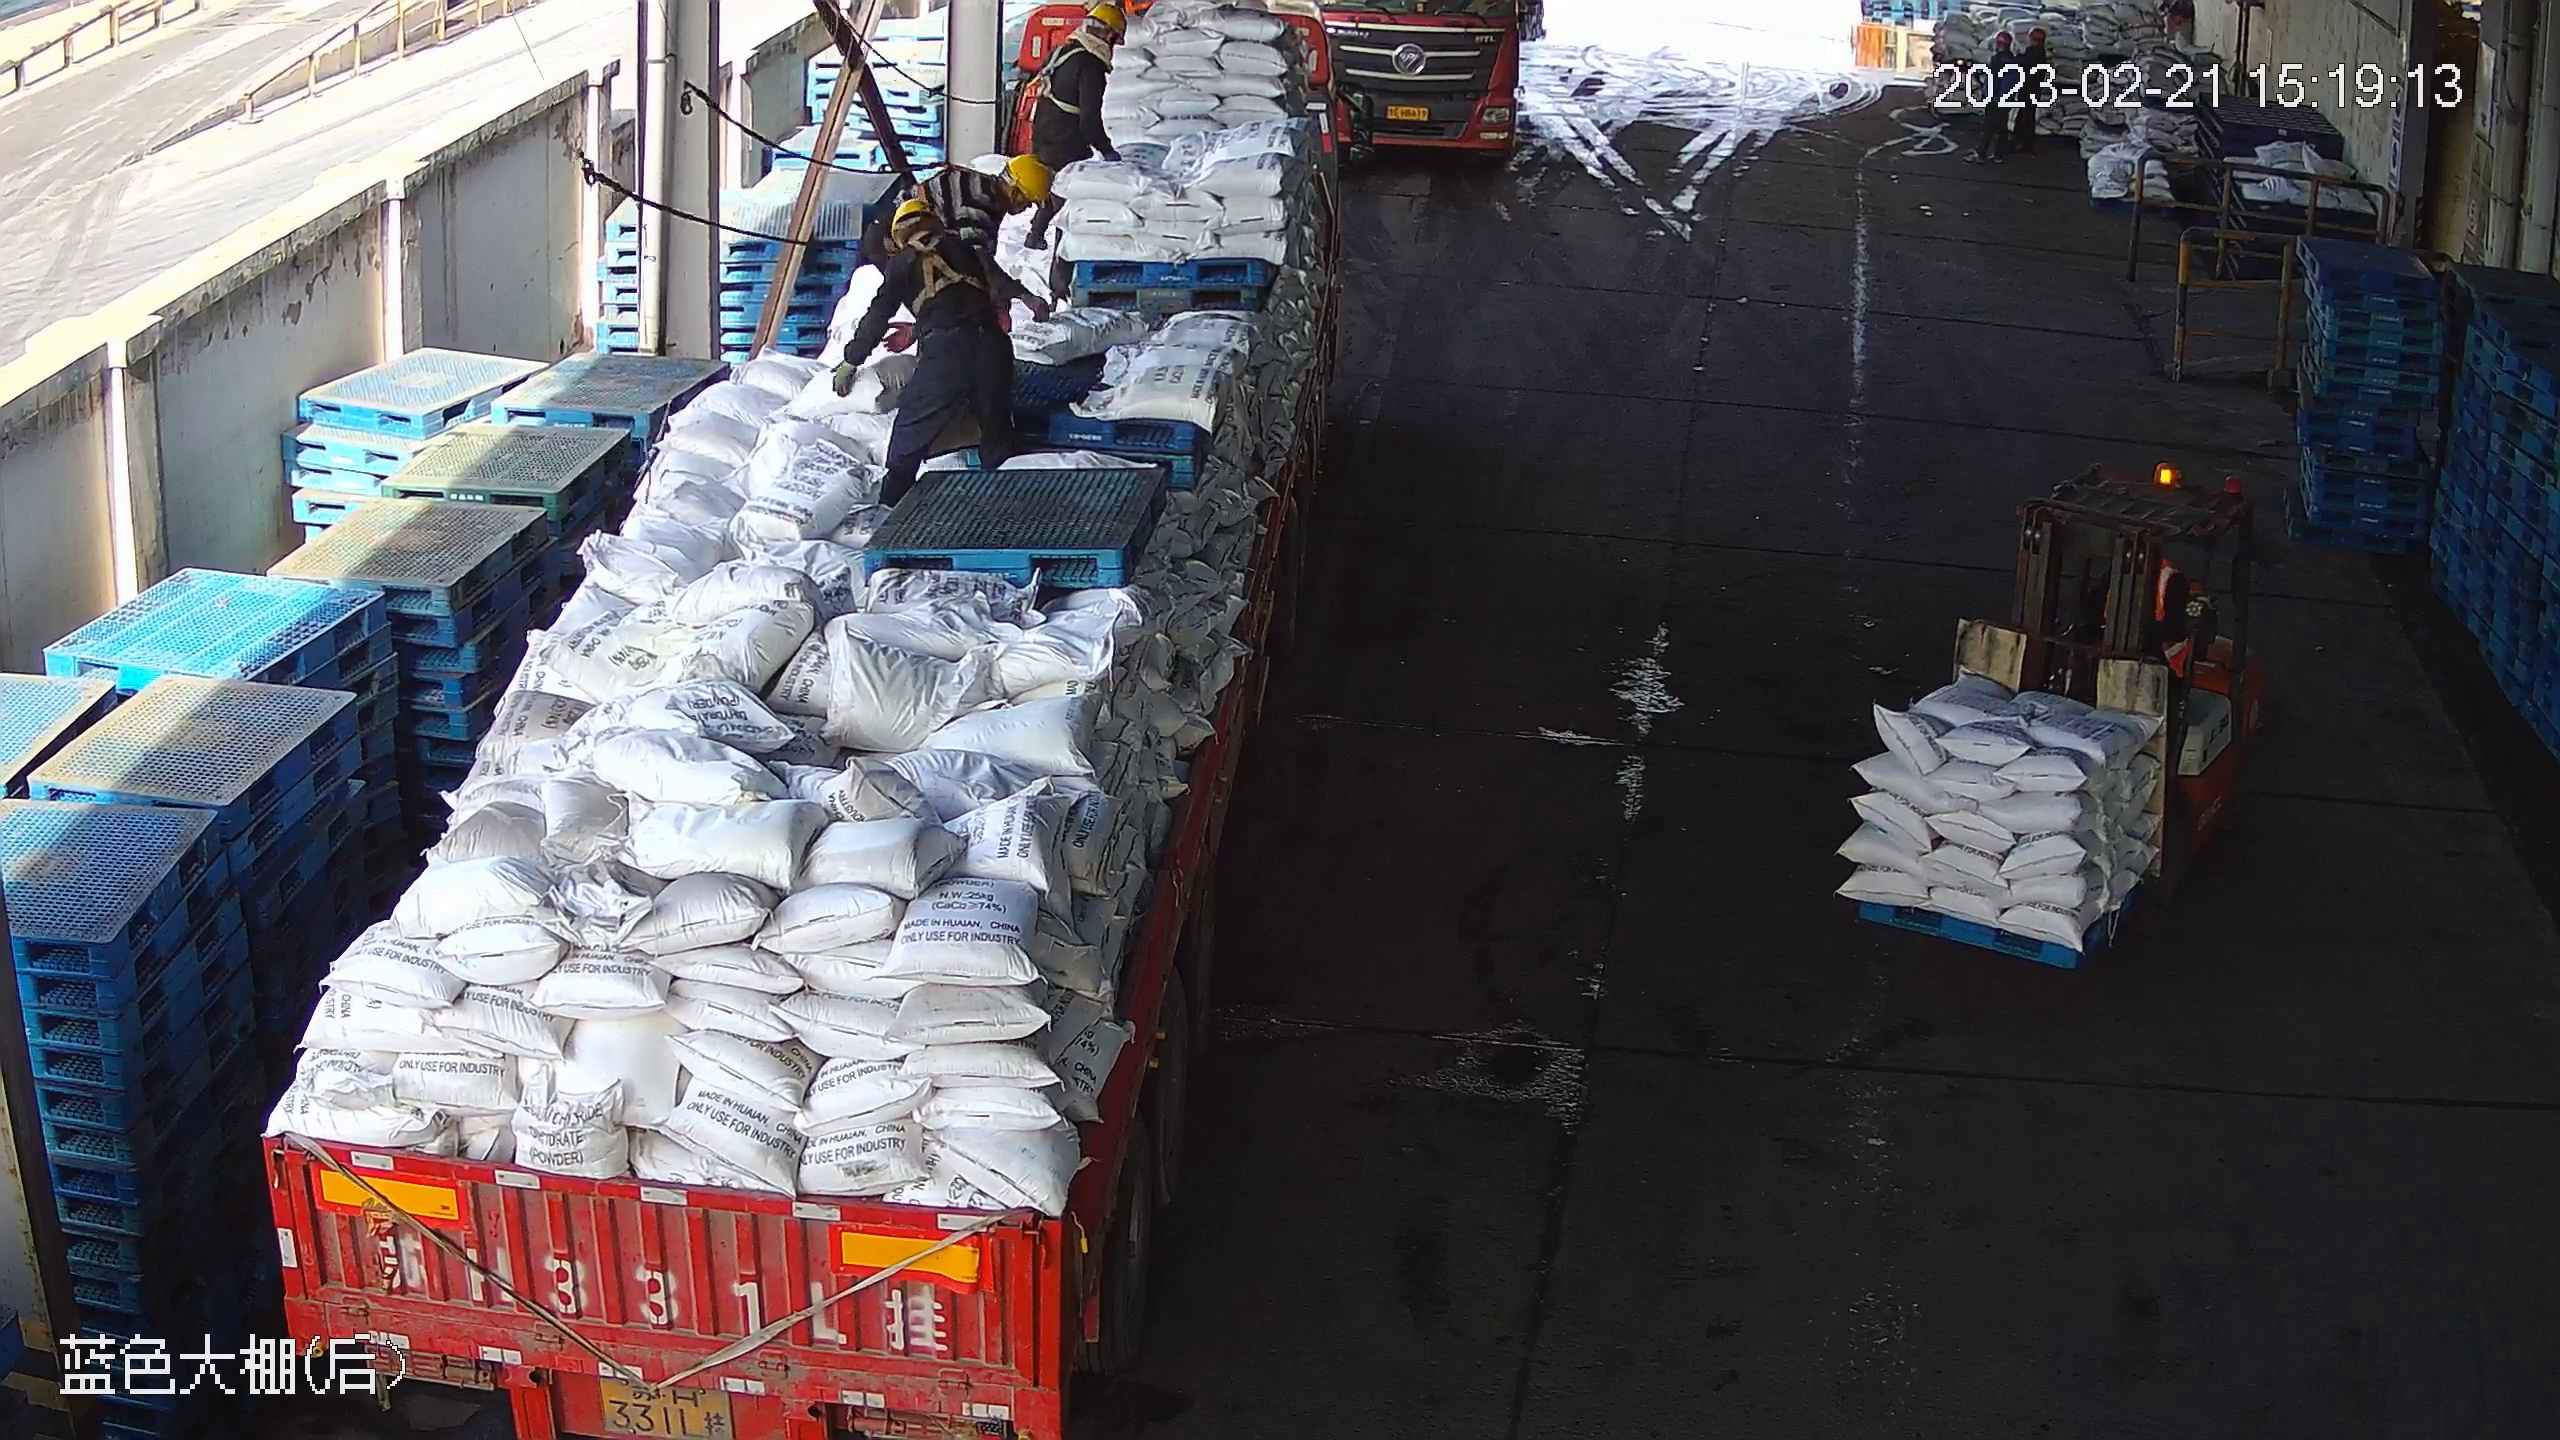belt: (883, 232, 966, 303), (1040, 34, 1085, 116), (922, 154, 966, 182)
head: (842, 188, 1003, 303), (1040, 1, 1125, 72)
helmet: (1011, 158, 1059, 210), (892, 191, 946, 236), (1092, 1, 1131, 40)
people: (840, 190, 1011, 491), (1014, 4, 1131, 190)
truck: (266, 1, 1333, 1440), (1313, 1, 1529, 175)
